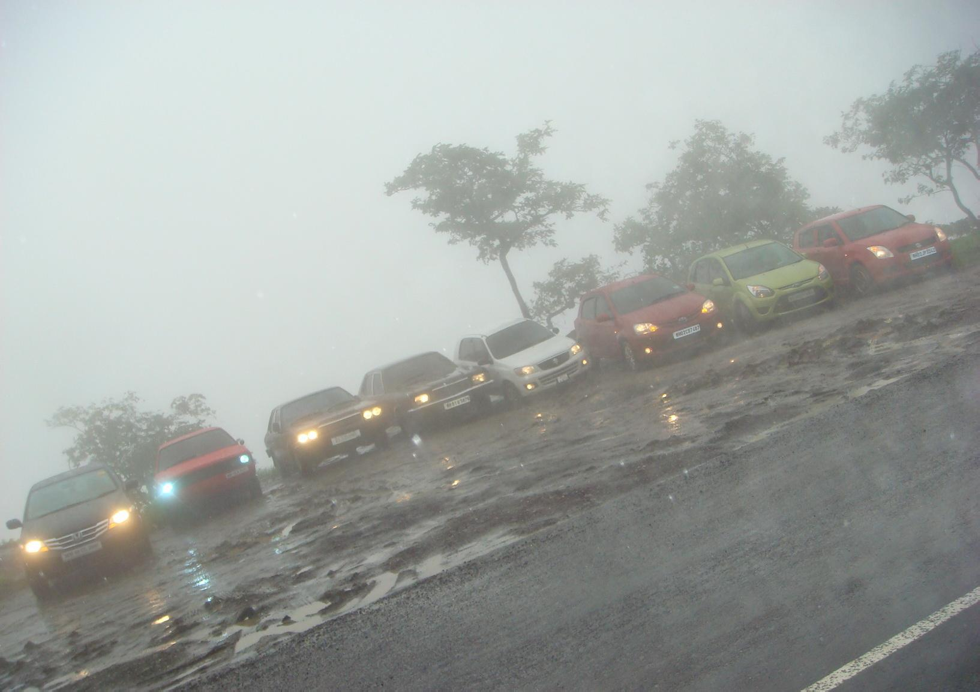bench: (152, 425, 262, 527)
boat: (282, 333, 556, 465), (12, 462, 157, 599), (147, 422, 262, 528), (452, 315, 588, 399)
bus: (265, 341, 522, 478), (314, 320, 580, 451), (52, 443, 236, 582), (775, 198, 966, 313), (16, 461, 141, 596), (365, 337, 542, 431), (572, 271, 729, 372), (687, 241, 833, 331), (270, 384, 408, 478), (449, 306, 583, 397), (147, 422, 262, 528)
car: (282, 333, 556, 465), (470, 279, 698, 415), (250, 373, 508, 493), (595, 239, 833, 363), (364, 313, 583, 441), (96, 400, 275, 551), (52, 443, 236, 582), (385, 286, 589, 397), (389, 365, 571, 454), (574, 271, 726, 374), (20, 465, 142, 592), (790, 203, 950, 299), (339, 374, 513, 460), (358, 348, 523, 436), (304, 377, 451, 473), (417, 329, 572, 416), (687, 241, 833, 331), (267, 385, 406, 479), (152, 425, 262, 527), (454, 314, 587, 397), (472, 289, 594, 377), (289, 413, 429, 485), (128, 457, 249, 534), (647, 265, 740, 354), (687, 256, 781, 343), (336, 366, 429, 453), (357, 349, 469, 412), (265, 382, 351, 464), (359, 367, 460, 434), (315, 390, 406, 460), (506, 314, 579, 376), (112, 478, 155, 562), (687, 272, 738, 338), (534, 297, 585, 363), (480, 318, 555, 361), (354, 356, 418, 404), (354, 370, 412, 421), (355, 388, 414, 434), (372, 394, 422, 444), (0, 517, 35, 588), (355, 397, 401, 449), (107, 478, 141, 537), (121, 475, 153, 528), (936, 216, 980, 242), (358, 367, 387, 397), (150, 477, 178, 505)
chair: (152, 425, 262, 527)
fire hydrant: (287, 389, 421, 477)
motorcycle: (343, 310, 581, 446), (270, 384, 408, 478)
person: (573, 272, 719, 371), (17, 464, 124, 595), (148, 424, 266, 527), (287, 389, 421, 477), (270, 382, 367, 479), (123, 476, 149, 513), (1, 517, 23, 548), (869, 243, 899, 258)
potted plant: (153, 424, 260, 521)
suitcase: (573, 272, 719, 371), (270, 384, 408, 478), (151, 424, 262, 522), (481, 318, 554, 361)
traffic light: (574, 272, 723, 371), (153, 424, 260, 521)
train: (573, 272, 719, 371), (273, 387, 413, 478), (142, 425, 257, 525)
truck: (255, 281, 644, 477), (284, 258, 584, 418), (282, 333, 556, 465), (620, 208, 897, 331), (250, 373, 508, 493), (595, 239, 833, 363), (407, 269, 632, 396), (96, 400, 275, 551), (366, 316, 584, 437), (52, 443, 236, 582), (215, 390, 424, 510), (152, 400, 337, 525), (484, 266, 681, 383), (16, 462, 143, 595), (791, 201, 952, 304), (389, 365, 571, 454), (339, 374, 513, 460), (573, 272, 719, 371), (359, 348, 515, 435), (687, 241, 833, 331), (436, 340, 582, 425), (273, 384, 404, 478), (449, 306, 583, 397), (152, 425, 262, 527), (259, 390, 354, 486), (322, 371, 437, 449), (315, 390, 406, 460), (355, 349, 460, 408)
tv: (573, 272, 719, 371), (151, 424, 262, 522)
umbrella: (573, 272, 719, 371), (151, 424, 262, 522)
